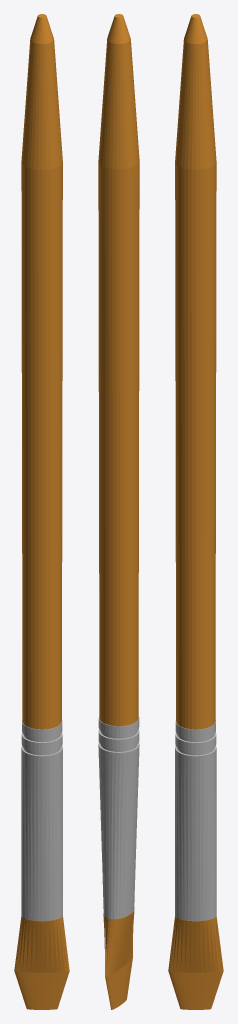
File: brush.dae
The picture shows the model from 3 angles, left to right: view 1: azimuth 90°, elevation 25°; view 2: azimuth 150°, elevation 25°; view 3: azimuth 270°, elevation 25°; orthographic projection.
Parts seen in each view (by area): view 1: Cylinder, Cylinder.001, Cylinder.002; view 2: Cylinder, Cylinder.001, Cylinder.002; view 3: Cylinder, Cylinder.001, Cylinder.002.
Boxes of the visible parts, x1,y1,x2,y2 form: Cylinder: [21, 14, 62, 729]; Cylinder.001: [21, 720, 62, 920]; Cylinder.002: [14, 916, 69, 1009]; Cylinder: [98, 14, 139, 726]; Cylinder.001: [98, 716, 139, 919]; Cylinder.002: [103, 908, 134, 1009]; Cylinder: [175, 14, 216, 729]; Cylinder.001: [175, 720, 216, 920]; Cylinder.002: [168, 916, 223, 1009].
Size of the model in its own units: 0.02 by 0.0267 by 0.5286.
